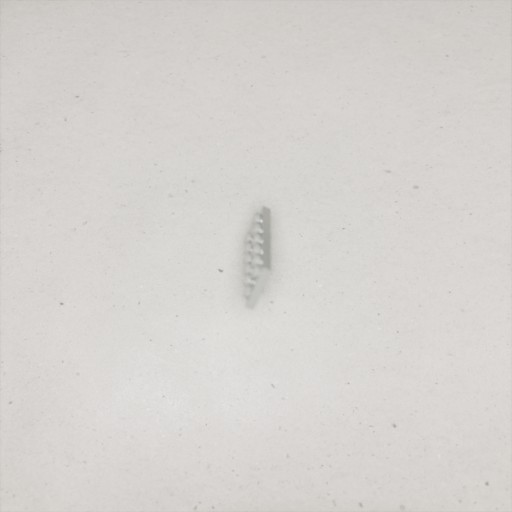lego: (242, 206, 272, 311)
